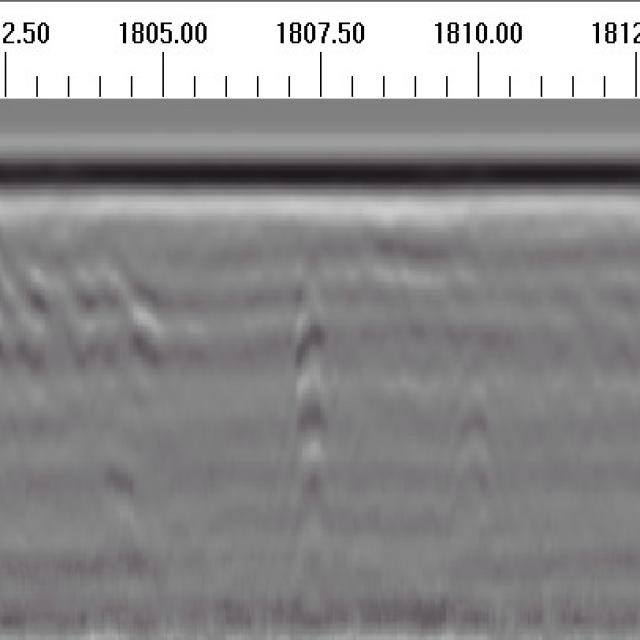crack: (291, 266, 329, 565)
